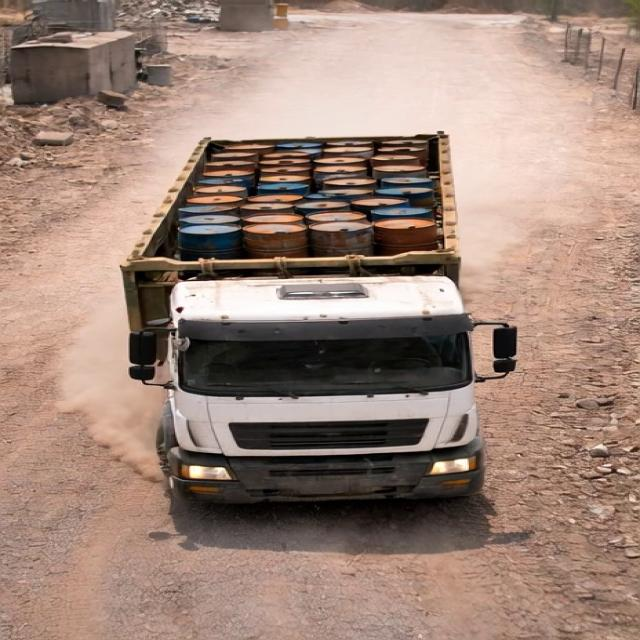trailer: (119, 127, 476, 275)
truck: (97, 112, 524, 519)
